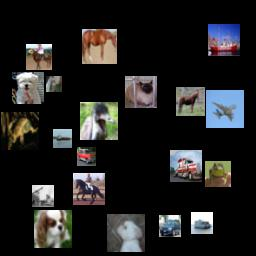airplane: (206, 90, 244, 128)
automobile: (159, 215, 181, 237), (77, 147, 96, 166)
bird: (80, 102, 118, 140)
cat: (125, 76, 157, 108), (46, 76, 62, 92)
dog: (107, 214, 145, 252), (34, 210, 72, 248), (12, 72, 44, 104)
frog: (1, 112, 39, 150), (205, 161, 231, 187)
ship: (208, 24, 240, 56), (191, 212, 213, 234), (53, 129, 72, 148)
truck: (170, 150, 202, 182), (32, 185, 54, 207)
